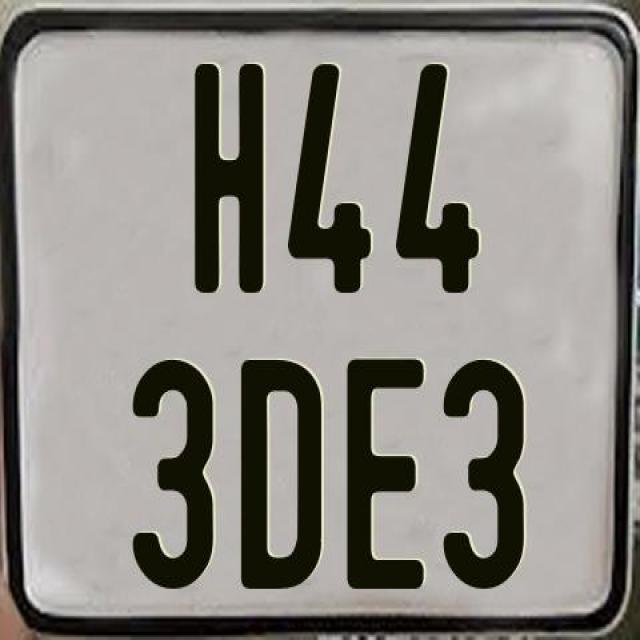3: (129, 360, 216, 598), (438, 360, 522, 595)
4: (286, 61, 376, 296), (392, 59, 482, 288)
D: (240, 355, 324, 587)
E: (342, 357, 426, 589)
H: (190, 60, 262, 298)
